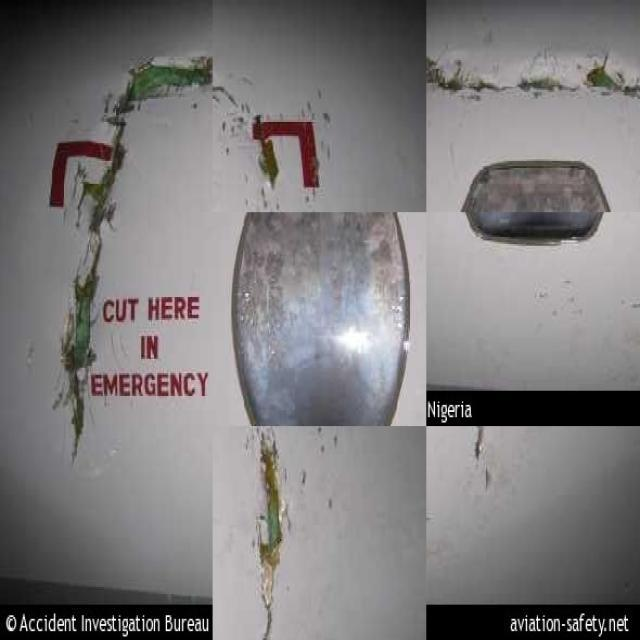crack: (56, 52, 215, 466), (426, 54, 640, 106), (254, 437, 284, 640)
